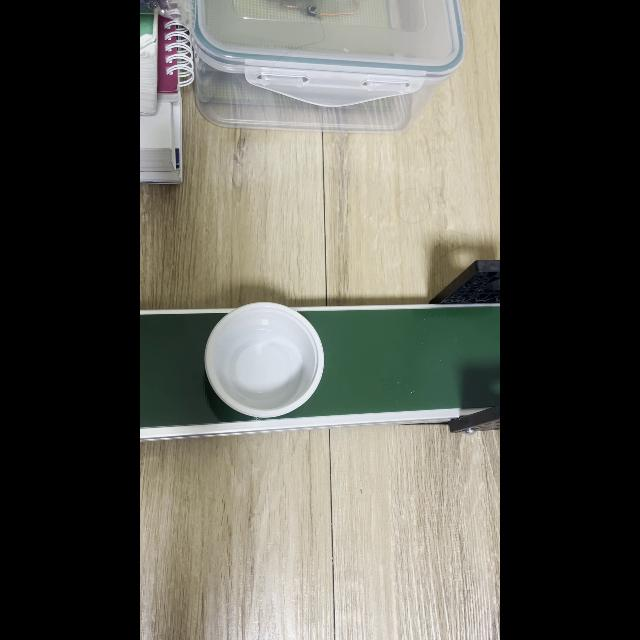clean: (207, 310, 315, 412)
